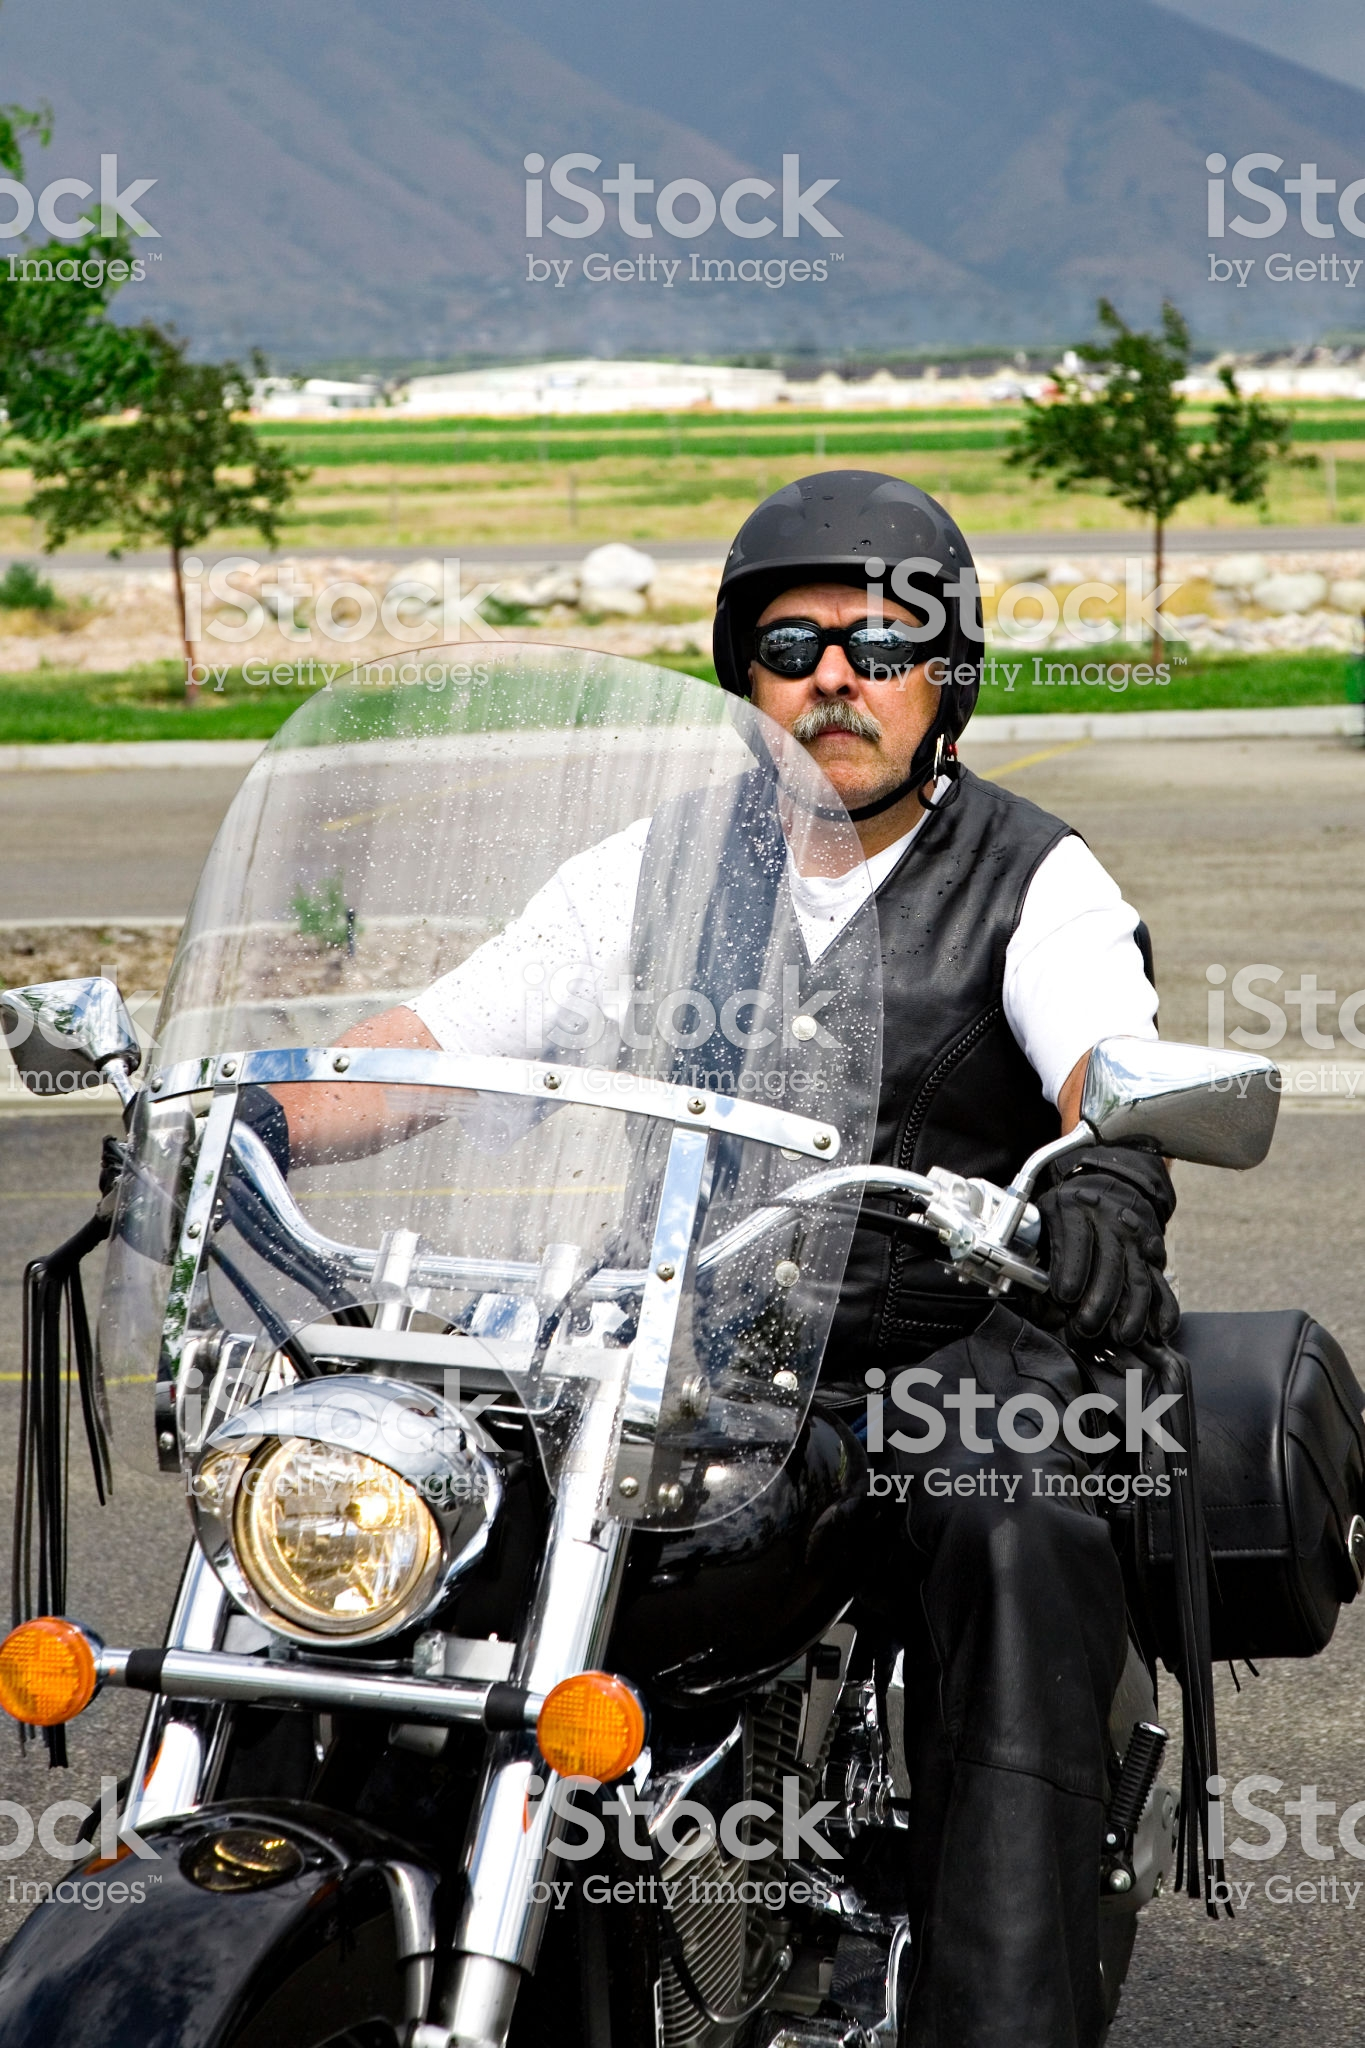helmet: (686, 478, 1031, 659)
